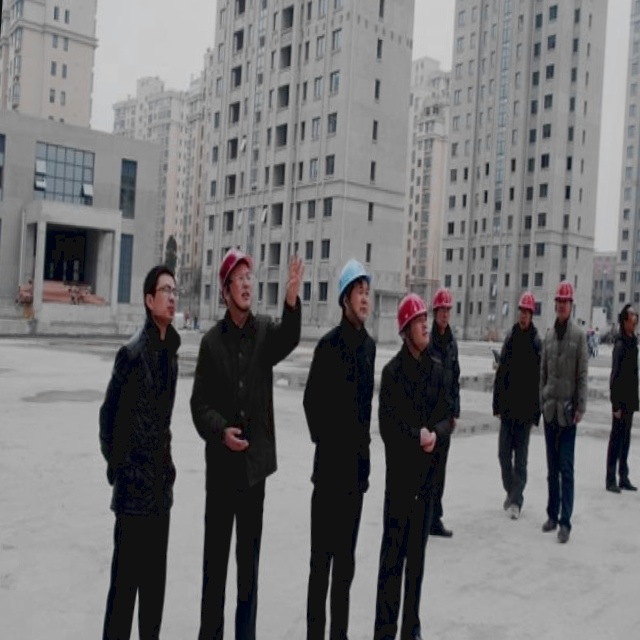Con_Casco: (334, 257, 373, 324)
Sin_Casco_Mascarrilla: (140, 264, 180, 325)
Sin_Chaleco: (108, 325, 185, 508), (307, 323, 379, 490)
